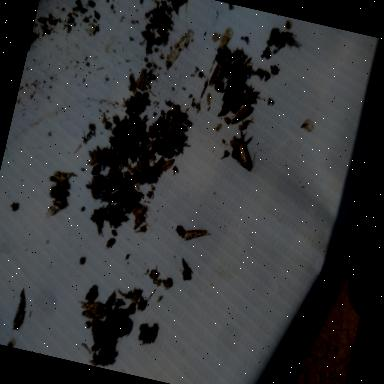pbw: (7, 288, 32, 334), (229, 138, 258, 170), (204, 56, 228, 92), (179, 224, 213, 249), (226, 100, 252, 132), (227, 49, 255, 78), (80, 304, 108, 324), (76, 296, 106, 314), (103, 183, 123, 205), (238, 84, 256, 108), (120, 188, 139, 210), (102, 290, 118, 312), (88, 178, 101, 200), (180, 259, 194, 276), (180, 270, 190, 282)
